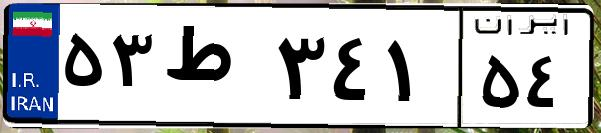1: (385, 28, 445, 110)
3: (270, 28, 330, 110), (110, 28, 158, 98)
4: (330, 28, 385, 110), (525, 38, 570, 115)
5: (57, 26, 110, 100), (475, 38, 525, 113)
ط: (158, 20, 270, 120)
